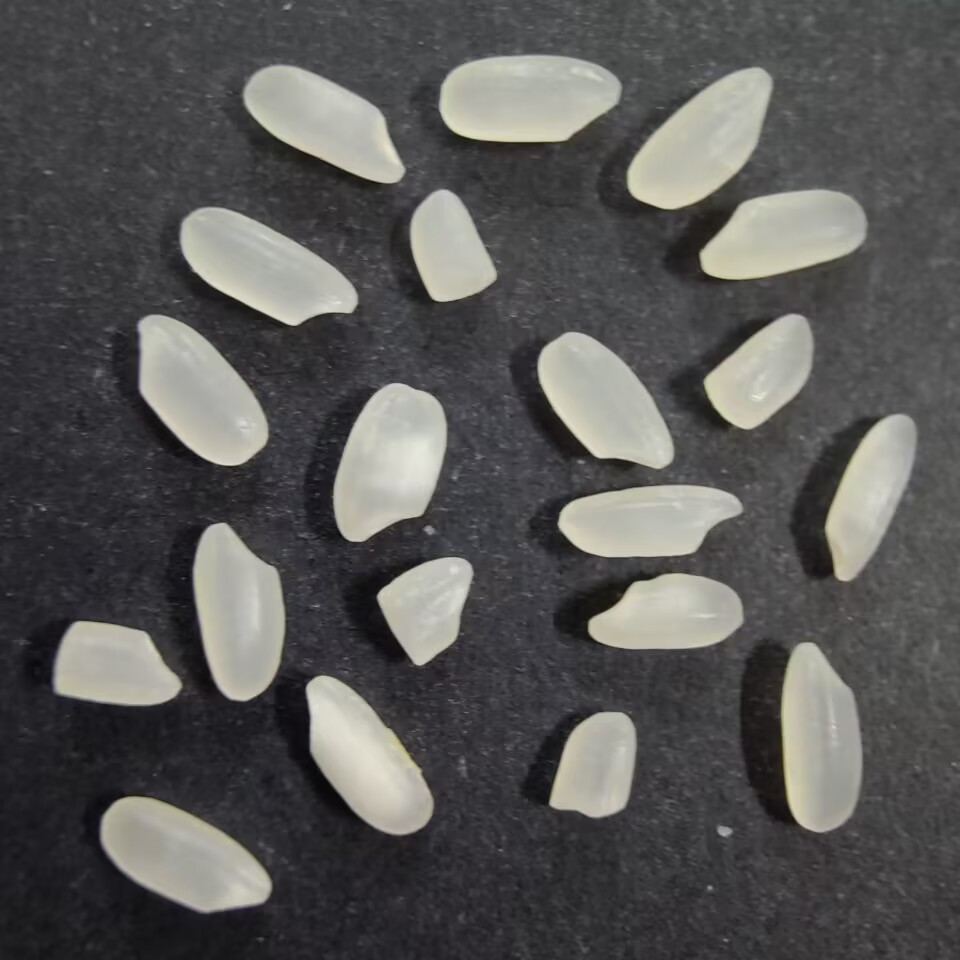broken: (696, 309, 820, 431), (371, 553, 480, 669), (51, 616, 183, 707), (405, 183, 498, 304), (547, 707, 642, 825)
rice: (128, 309, 273, 469), (178, 206, 362, 331), (300, 670, 436, 839), (626, 60, 777, 212), (95, 791, 272, 916), (534, 328, 679, 470), (239, 62, 404, 186), (331, 377, 450, 548), (190, 515, 289, 706), (434, 51, 626, 147), (777, 638, 870, 835), (820, 410, 918, 587), (694, 187, 871, 283), (551, 480, 747, 561), (587, 573, 748, 654)
